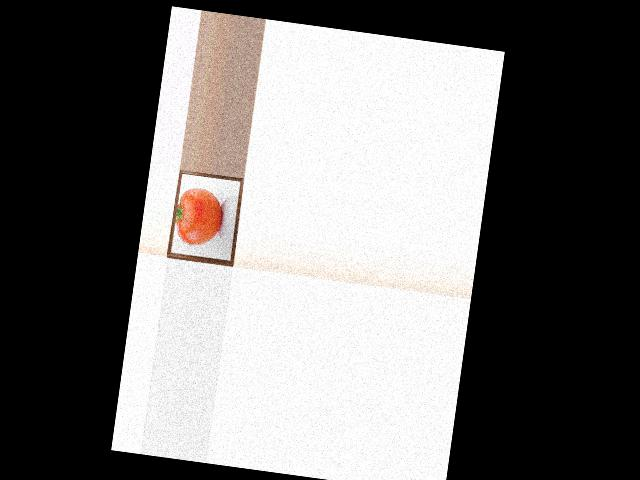tomato: (172, 186, 225, 248)
